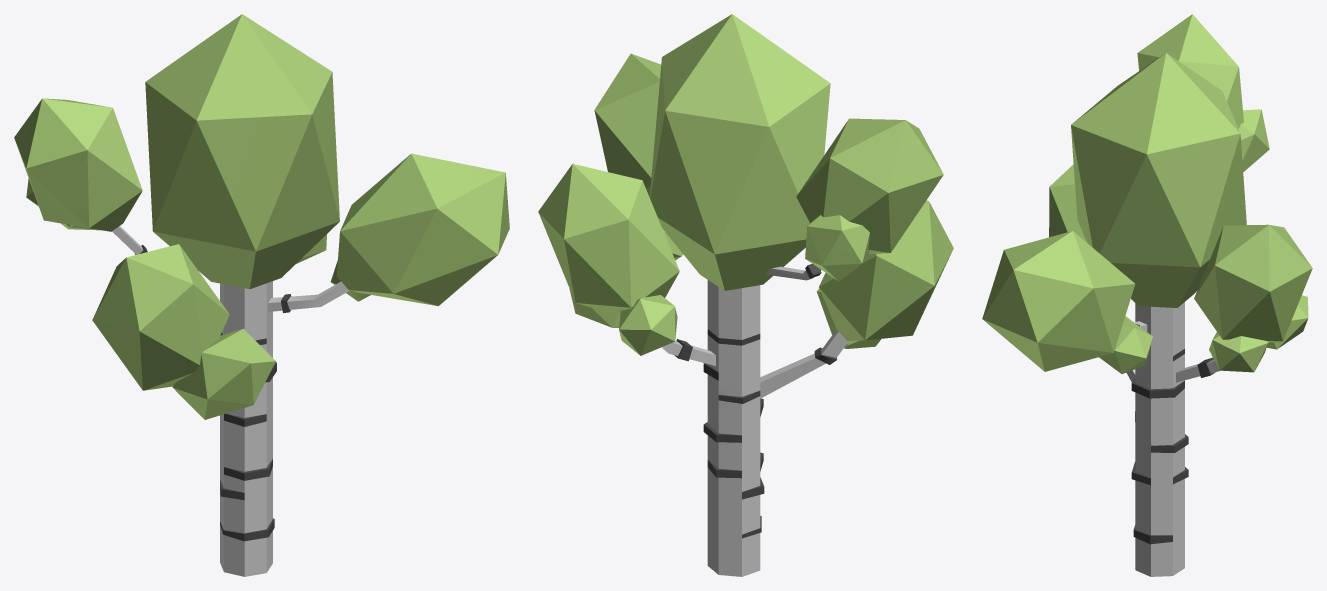
File: Bouleau_01.fbx
3 renders of one model, left to right at view 1: azimuth 30°, elevation 25°; view 2: azimuth 150°, elevation 25°; view 3: azimuth 270°, elevation 25°, orthographic. The views are drawn at different scales.
Visible parts, largest first — view 1: Bouleau_01; view 2: Bouleau_01; view 3: Bouleau_01.
Part boxes in pixels (box(x1,y1,x2,y2)): Bouleau_01: box(14, 14, 509, 576); Bouleau_01: box(538, 14, 953, 576); Bouleau_01: box(982, 14, 1312, 576).
Size of the model in its own units: 408 by 520 by 303.
1 material, 1 textured.
